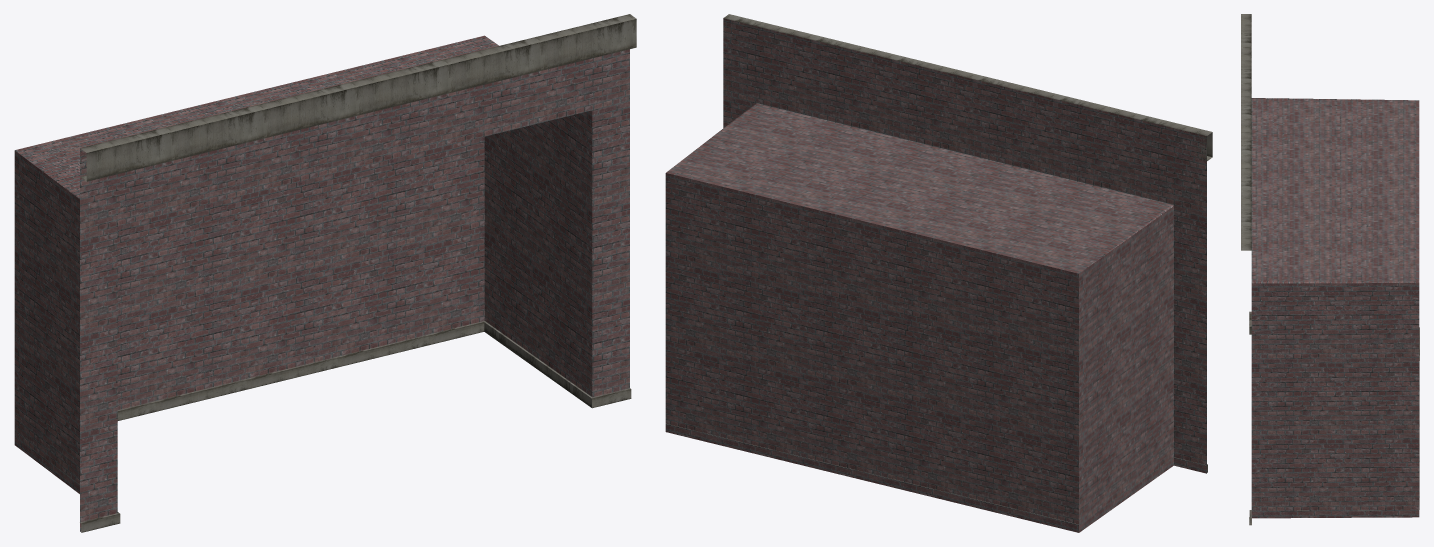
Rendered from Wall_D_Brick_RectangleIn_6x.FBX.
3 views of the same model, side by side, from view 1: azimuth 30°, elevation 25°; view 2: azimuth 150°, elevation 25°; view 3: azimuth 270°, elevation 25° (orthographic). The views are drawn at different scales.
Visible parts, largest first — view 1: Wall_D_Brick_RectangleIn_6x; view 2: Wall_D_Brick_RectangleIn_6x; view 3: Wall_D_Brick_RectangleIn_6x.
Part boxes in pixels (<box>): Wall_D_Brick_RectangleIn_6x: <box>14,14,636,532</box>; Wall_D_Brick_RectangleIn_6x: <box>665,14,1212,532</box>; Wall_D_Brick_RectangleIn_6x: <box>1241,14,1419,525</box>.
Bounding box in the file's own units: 600 × 400 × 212.
